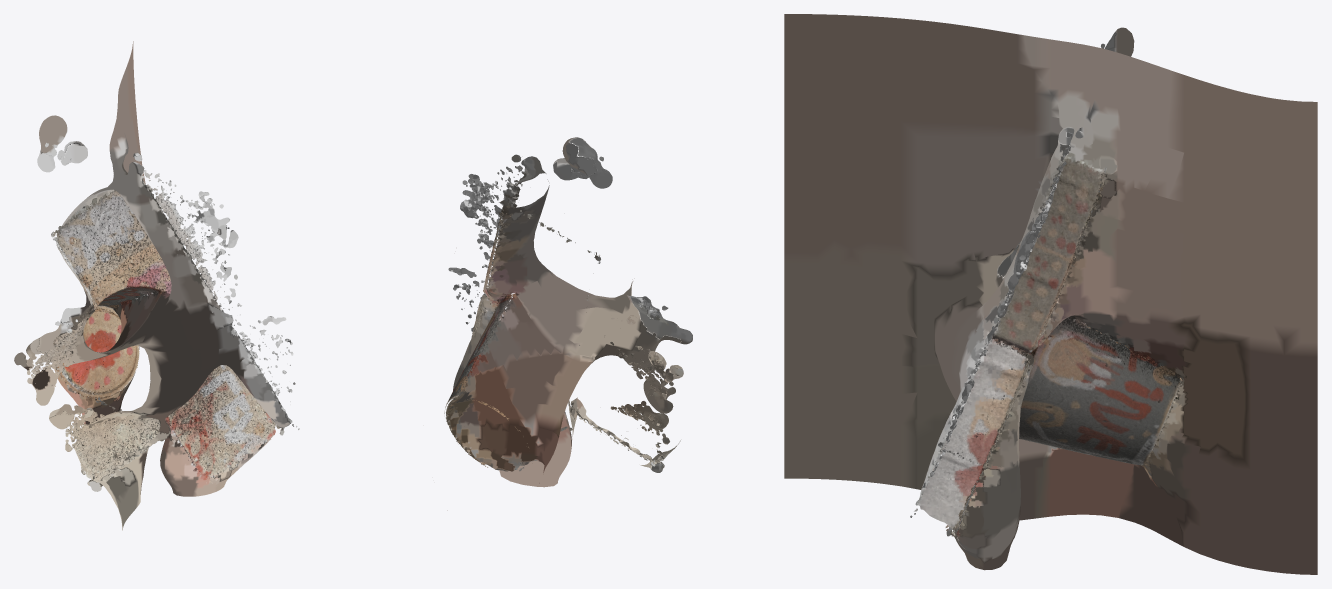
File: scan1v2.glb
3 renders of one model, left to right at view 1: azimuth 30°, elevation 25°; view 2: azimuth 150°, elevation 25°; view 3: azimuth 270°, elevation 25°, orthographic. The views are drawn at different scales.
Bounding box in the file's own units: 461 × 681 × 681.
